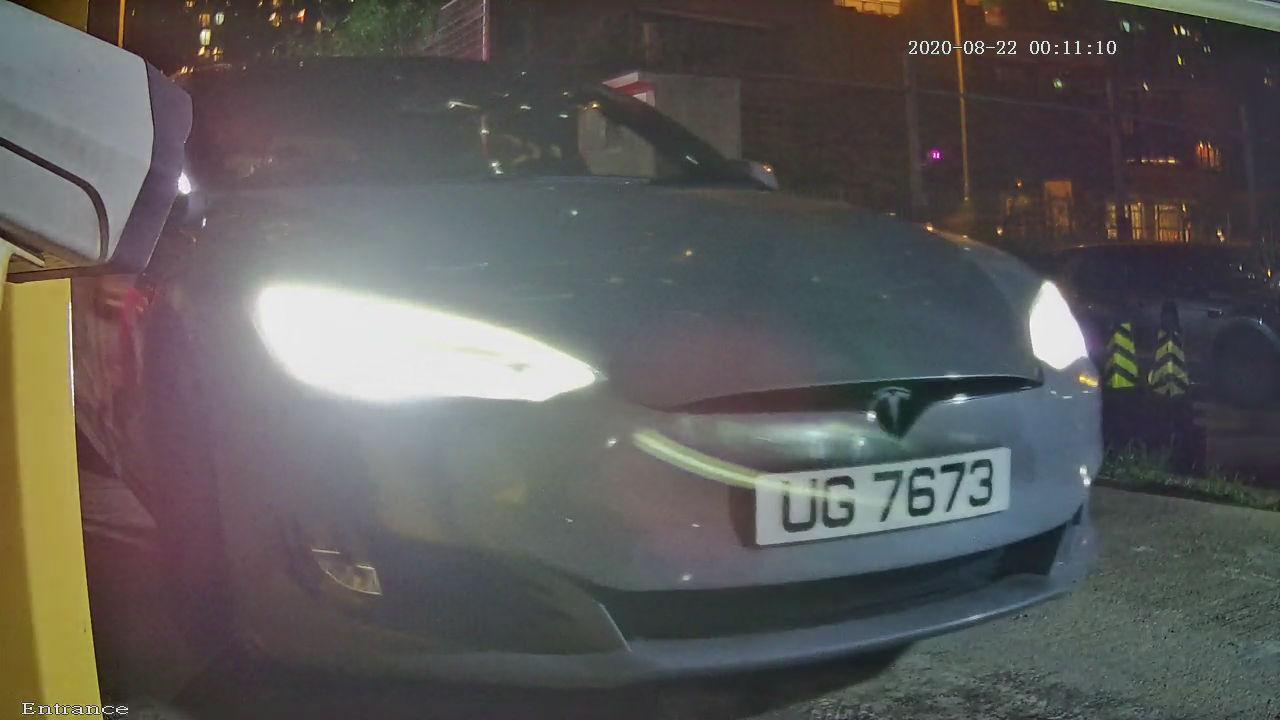Car: (7, 1, 1219, 704)
License Plate: (676, 414, 1058, 583)
